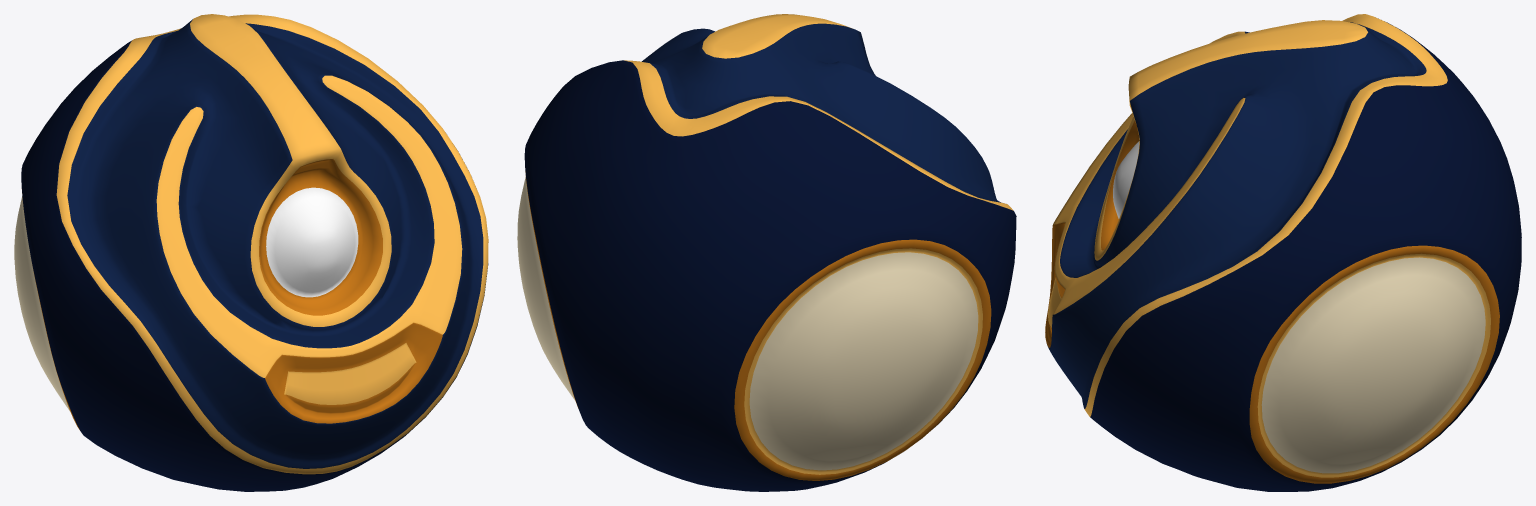
Rendered from robo-orb_exercise.fbx.
3 renders of one model, left to right at view 1: azimuth 30°, elevation 25°; view 2: azimuth 150°, elevation 25°; view 3: azimuth 270°, elevation 25°, orthographic. The views are drawn at different scales.
Parts seen in each view (by area): view 1: roboOrb_finished; view 2: roboOrb_finished; view 3: roboOrb_finished.
Boxes of the visible parts, box(x1,y1,x2,y2) form: roboOrb_finished: box(14, 14, 488, 491); roboOrb_finished: box(517, 14, 1016, 491); roboOrb_finished: box(1045, 14, 1521, 491).
Size of the model in its own units: 194 by 187 by 185.
